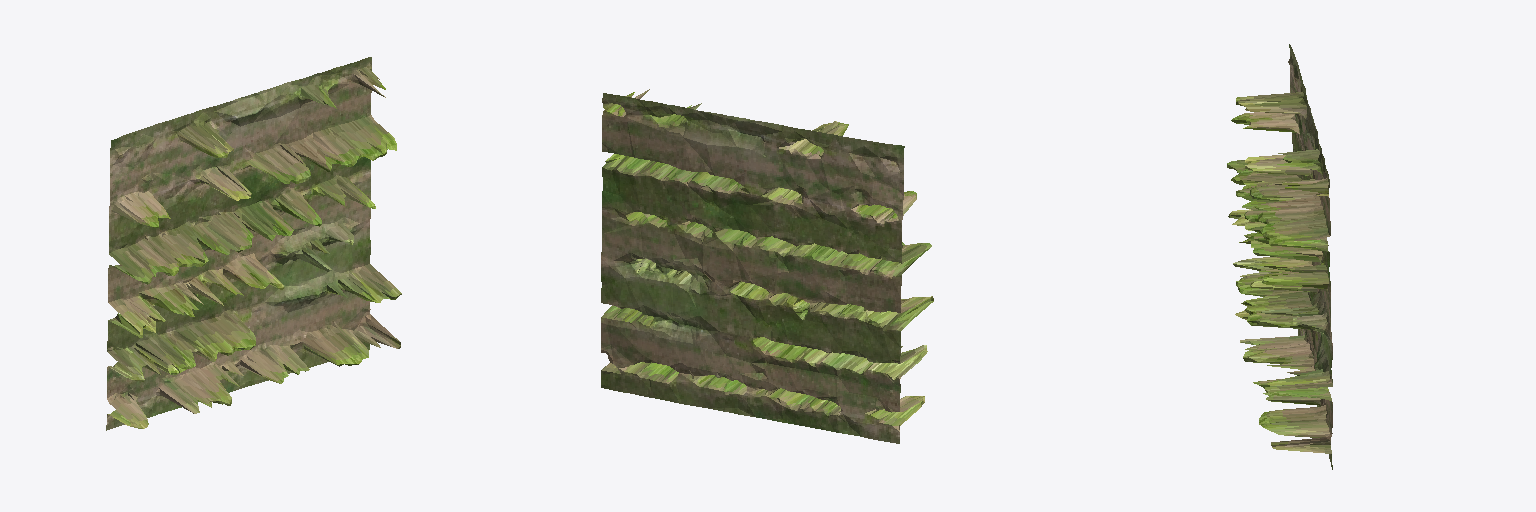
3 renders of one model, left to right at view 1: azimuth 30°, elevation 25°; view 2: azimuth 150°, elevation 25°; view 3: azimuth 270°, elevation 25°, orthographic.
Visible parts, largest first — view 1: grp1; view 2: grp1; view 3: grp1.
Part boxes in pixels (x1,y1,x2,y2): grp1: (106,57,401,430); grp1: (601,89,933,443); grp1: (1227,44,1332,469).
Bounding box in the file's own units: 10 × 10 × 3.29.
Materials: 1 (1 with a texture image).